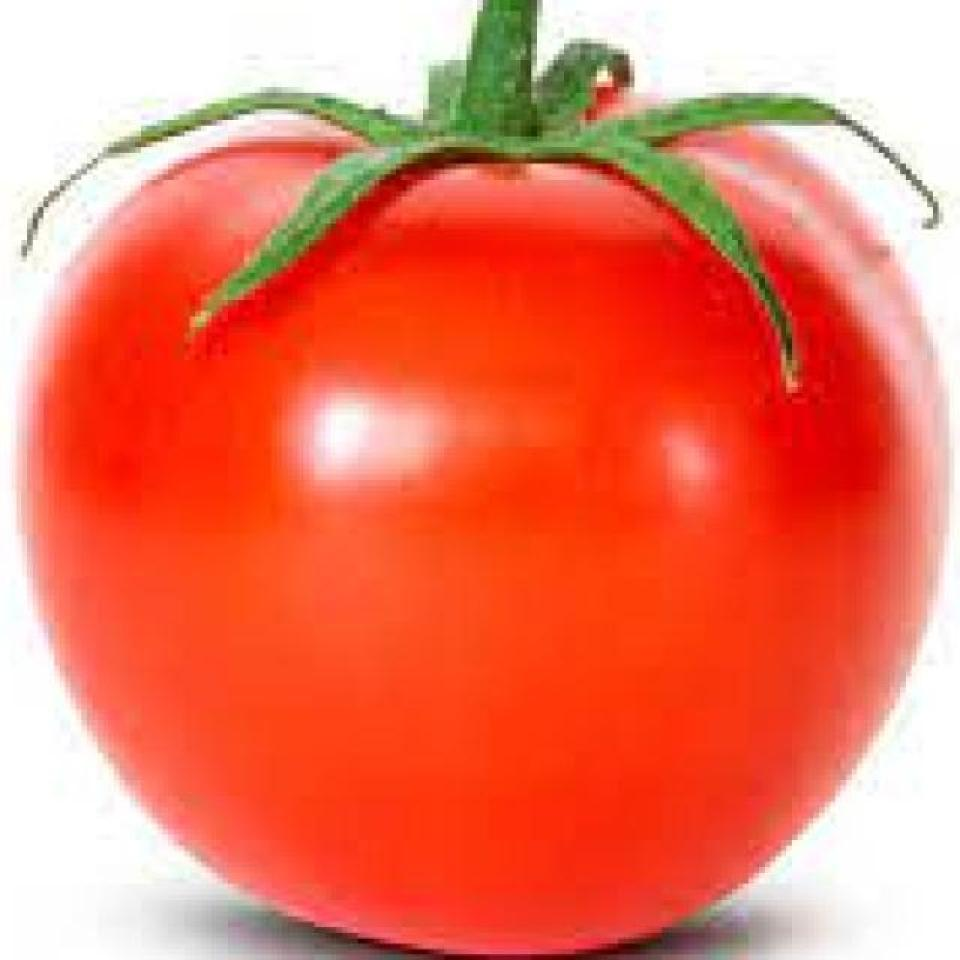Healthy: (34, 28, 958, 953)
